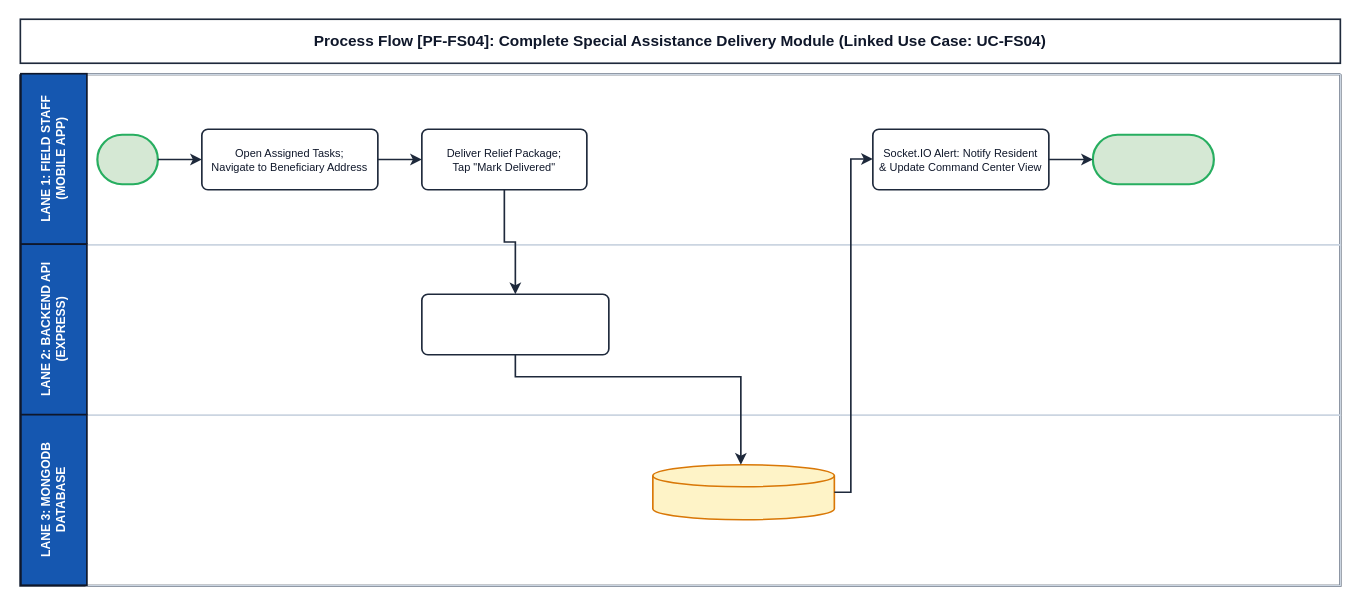
This 1360x606 diagram has some shape labels left out. Here are the shapes that lost their labels. From the top down, the centre of each, then its label:
point 127,159: START
point 1152,159: END (Completed)
point 515,324: PATCH /api/assistance-requests/:id/deliver with Completion Timestamp
point 743,491: MongoDB: Update Status = "delivered" & Log Staff Delivery Proof
